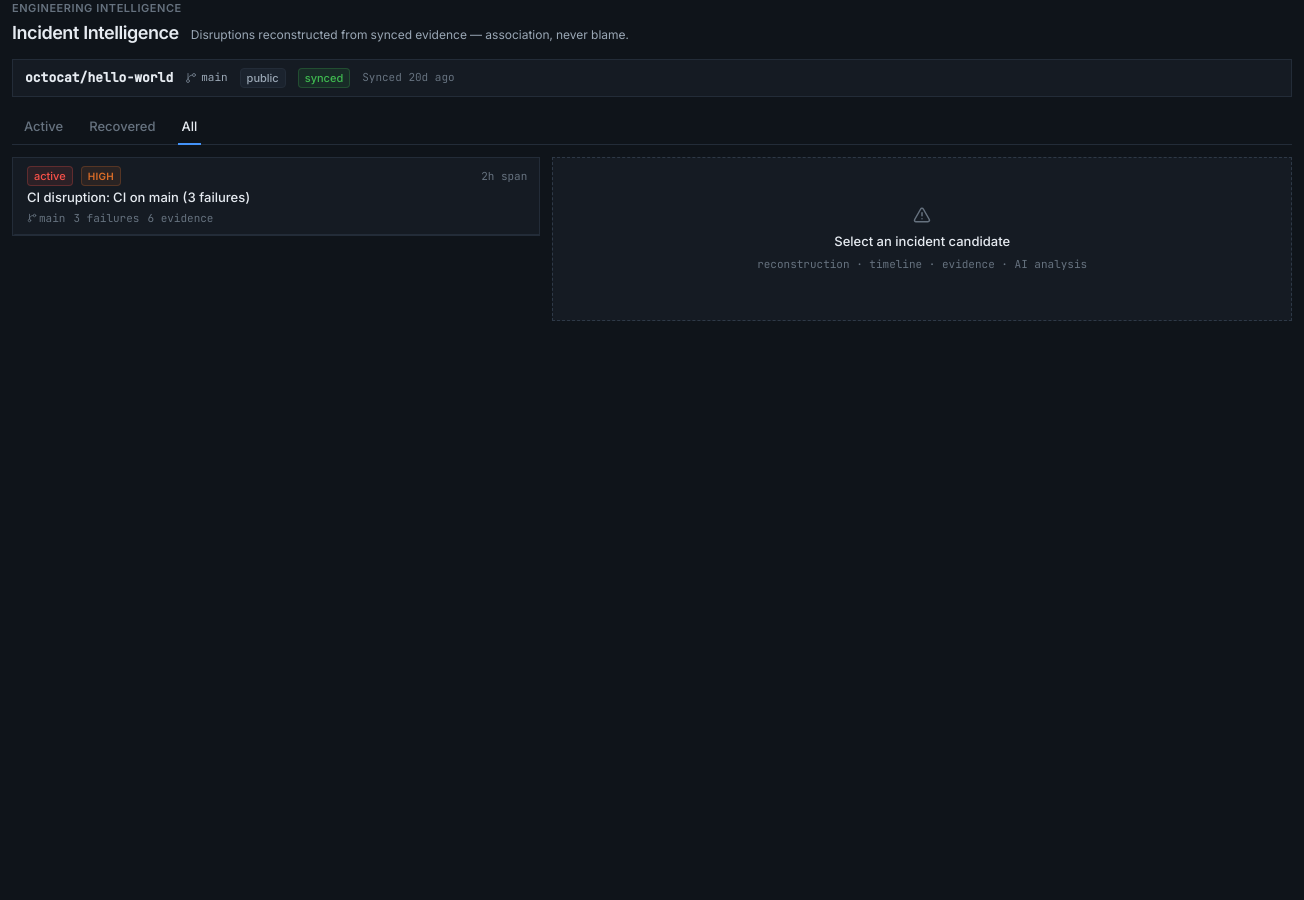
IncidentsPage investigation › shows the AI unavailable state when no provider is configured
The image size is (1304, 900).
Click the text "CI disruption: CI on main (3 failures)": (139, 197) x1=27 y1=189 x2=250 y2=205
(page scrolled)
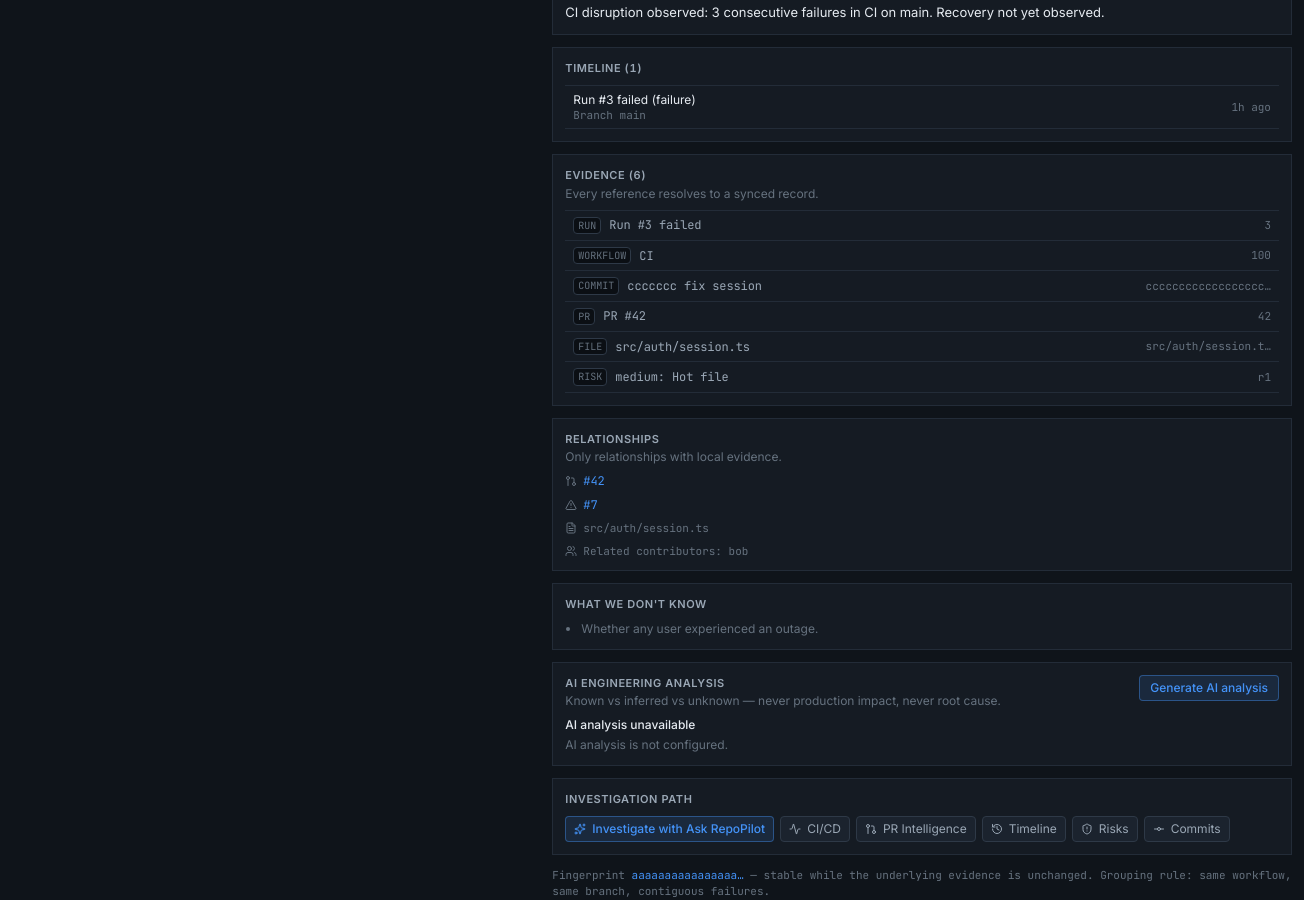
Check: the text "AI analysis unavailable" is shown, box x1=565 y1=717 x2=695 y2=732
Check: the text "AI analysis is not configured." is shown, box x1=565 y1=737 x2=728 y2=752
